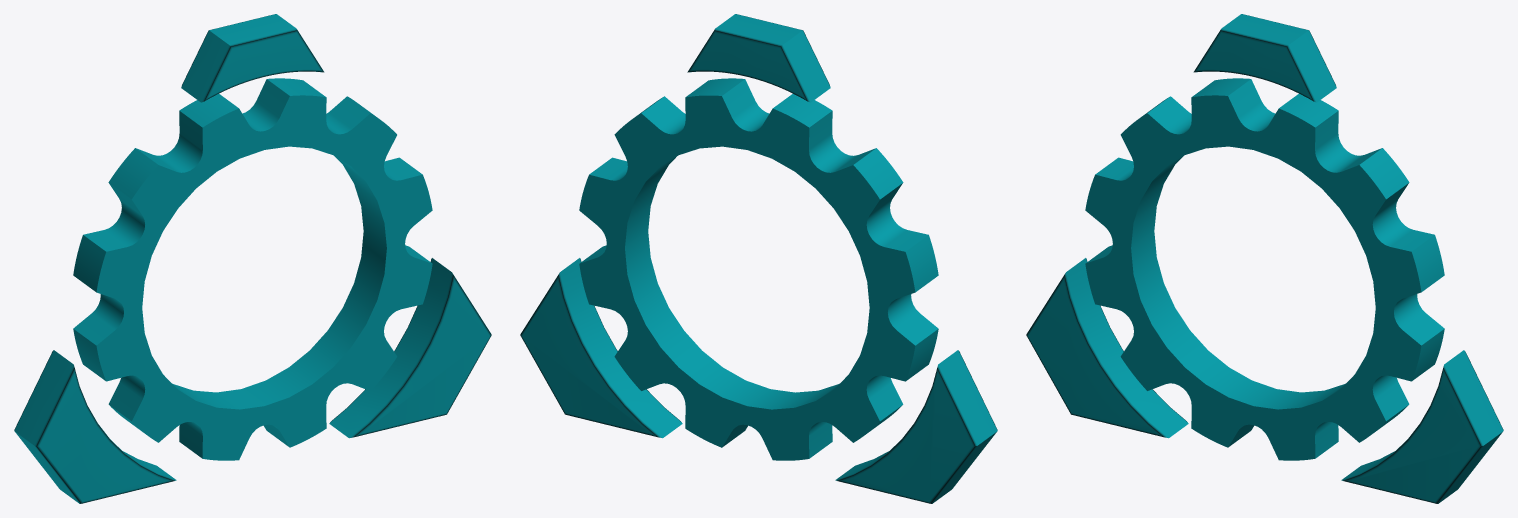
The model's file is Boton-Engrane.fbx.
3 renders of one model, left to right at view 1: azimuth 30°, elevation 25°; view 2: azimuth 150°, elevation 25°; view 3: azimuth 330°, elevation 25°, orthographic.
Parts seen in each view (by area): view 1: svgMesh2; view 2: svgMesh2; view 3: svgMesh2.
Part boxes in pixels (x1=…): svgMesh2: x1=14, y1=14, x2=491, y2=503; svgMesh2: x1=520, y1=14, x2=997, y2=503; svgMesh2: x1=1026, y1=14, x2=1503, y2=503.
Size of the model in its own units: 11.32 by 10 by 1.
